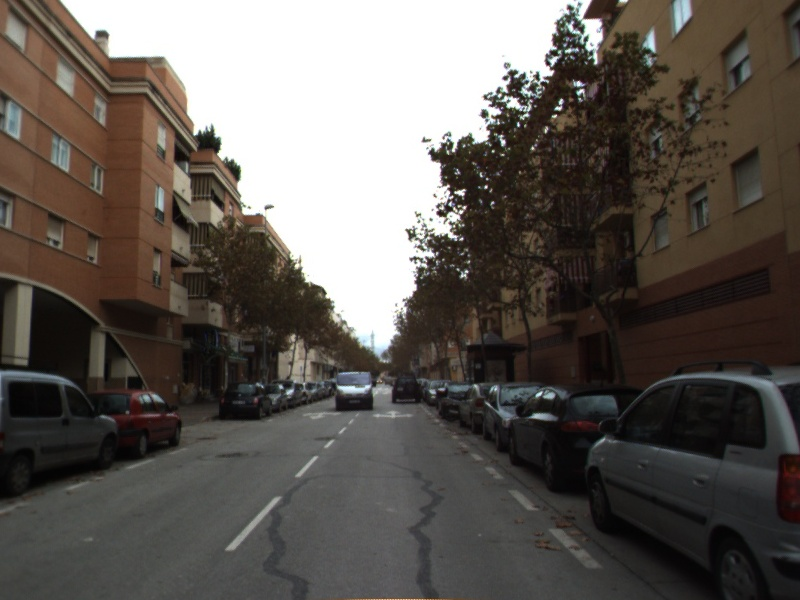STRAIGHT_LEFT_RIGHT: (371, 408, 416, 421)
